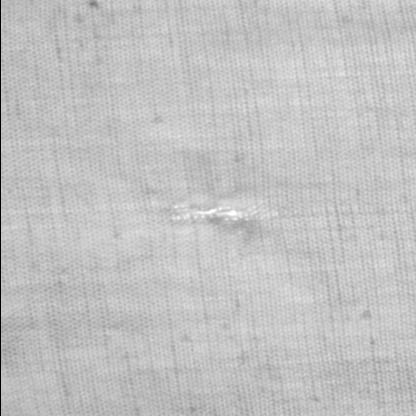hole: (167, 202, 281, 226)
